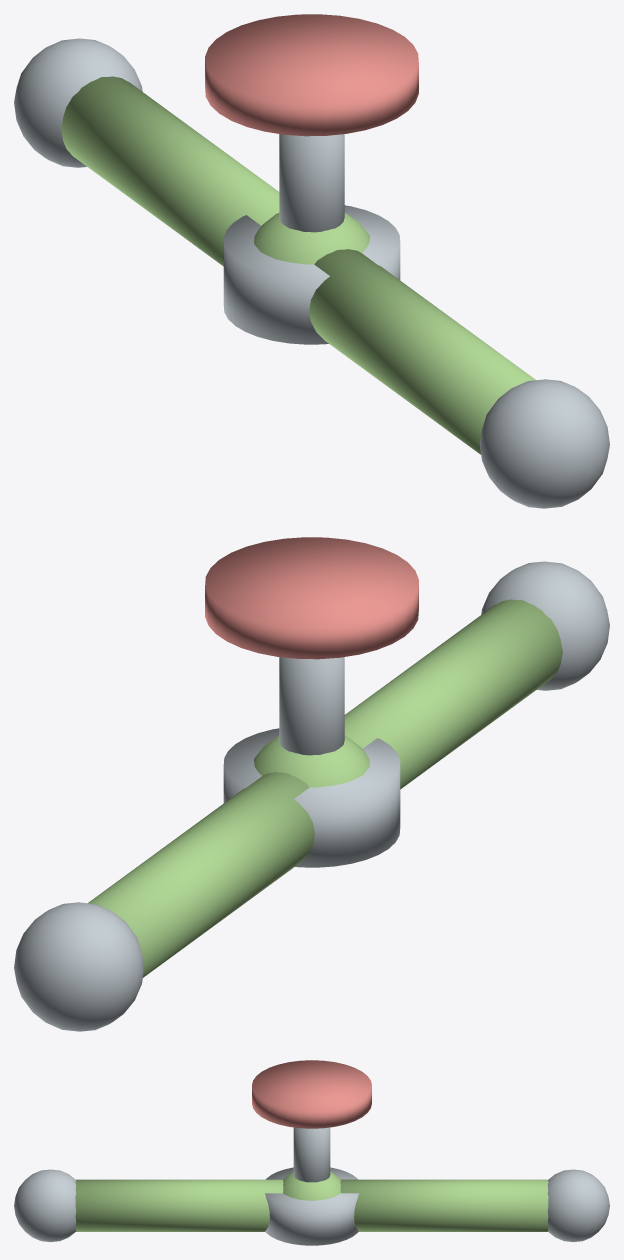
File: pipe_valve_ultra.glb
The picture shows the model from 3 angles, top to bottom: view 1: azimuth 30°, elevation 25°; view 2: azimuth 150°, elevation 25°; view 3: azimuth 270°, elevation 25°; orthographic projection. The views are drawn at different scales.
Parts seen in each view (by area): view 1: Conduit_green, Valve_red, Coupler_steel, JunctionCap_steel, Valve_steel, Junction_green; view 2: Conduit_green, Valve_red, Coupler_steel, JunctionCap_steel, Valve_steel, Junction_green; view 3: Conduit_green, Coupler_steel, Valve_red, JunctionCap_steel, Valve_steel, Junction_green.
Part boxes in pixels (x1,y1,x2,y2): Conduit_green: (61, 76, 535, 454); Valve_red: (205, 14, 418, 136); Coupler_steel: (14, 38, 609, 508); JunctionCap_steel: (223, 205, 400, 344); Valve_steel: (279, 134, 344, 232); Junction_green: (254, 213, 369, 264); Conduit_green: (88, 599, 562, 977); Valve_red: (205, 537, 418, 659); Coupler_steel: (14, 561, 609, 1031); JunctionCap_steel: (223, 728, 400, 867); Valve_steel: (279, 657, 344, 755); Junction_green: (254, 736, 369, 787); Conduit_green: (75, 1179, 548, 1231); Coupler_steel: (14, 1169, 609, 1242); Valve_red: (252, 1060, 371, 1128); JunctionCap_steel: (265, 1167, 358, 1245); Valve_steel: (293, 1127, 330, 1182); Junction_green: (283, 1171, 340, 1200).
Bounding box in the file's own units: 0.46 × 0.6575 × 2.28.
